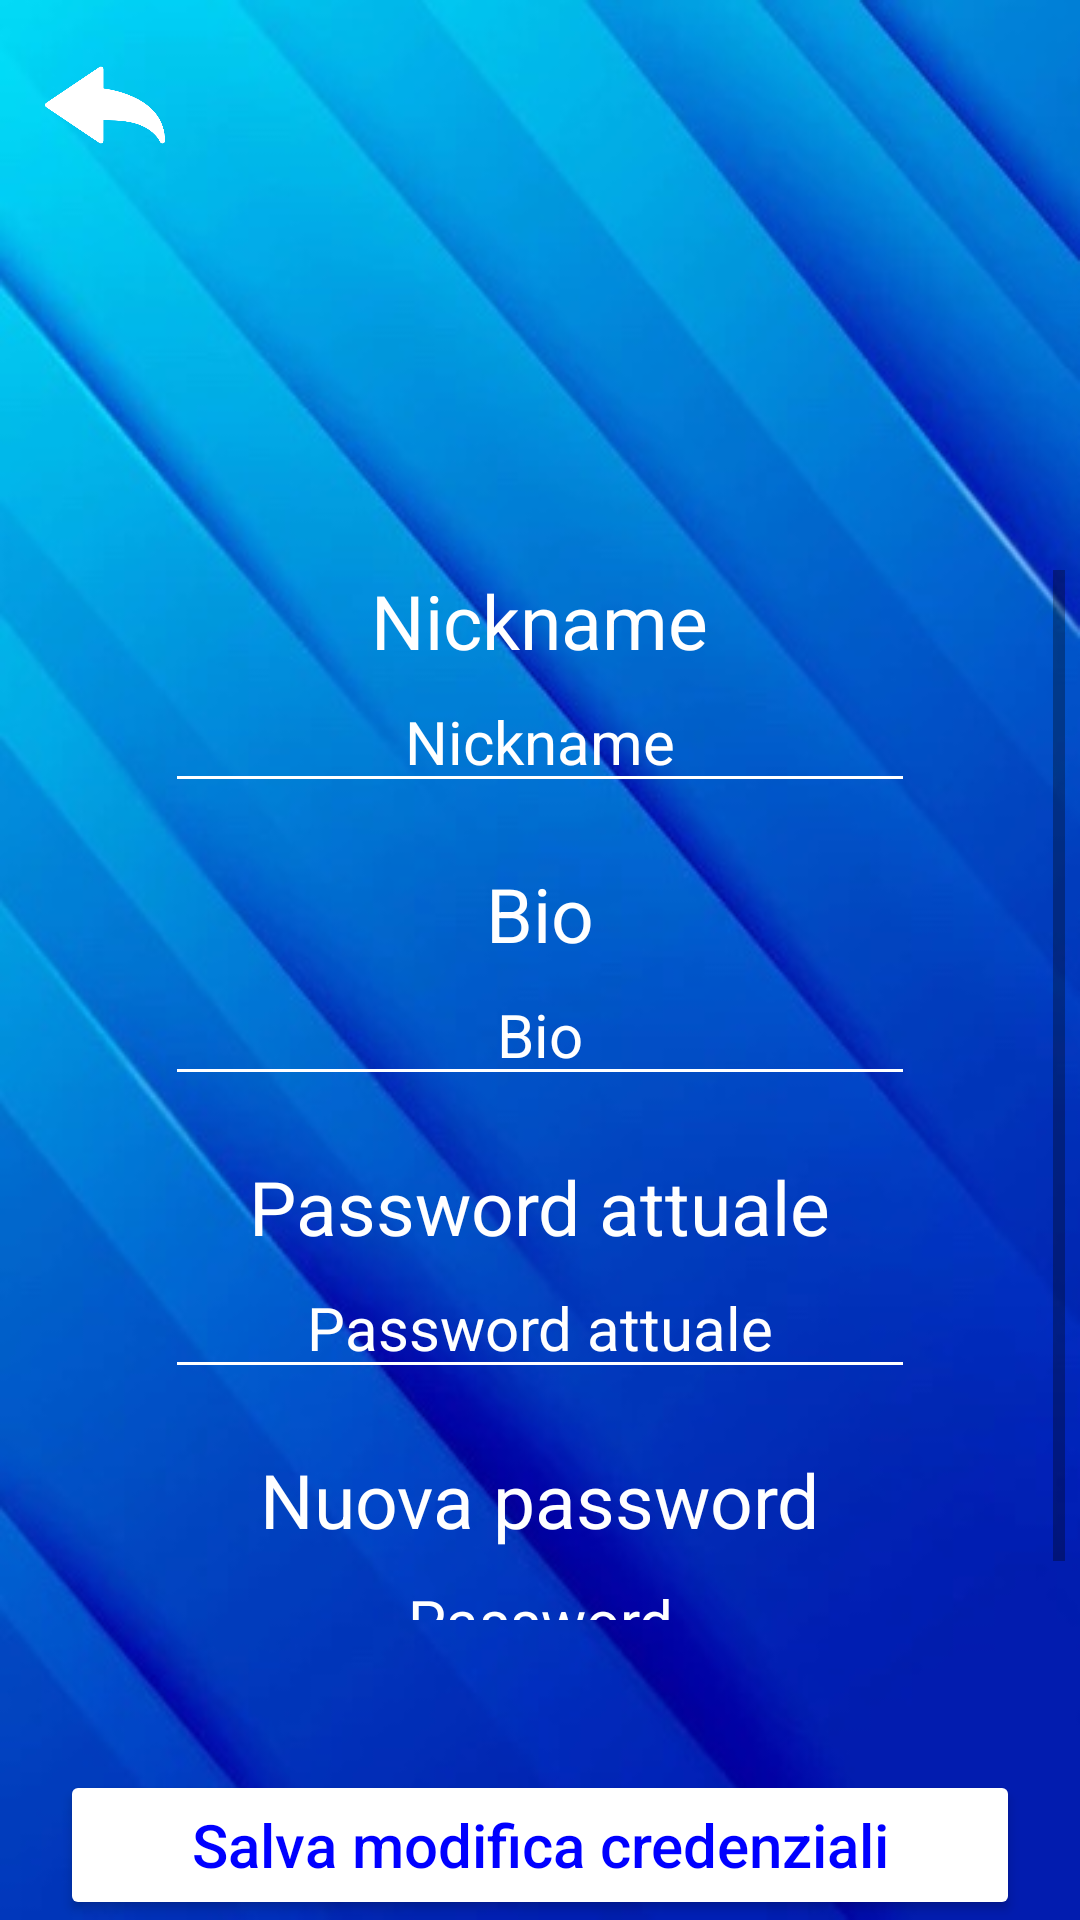

Icons on this 1080 × 1920 Android screen, each with the point to tap as (x=x, y=y):
back: (x=105, y=105)
